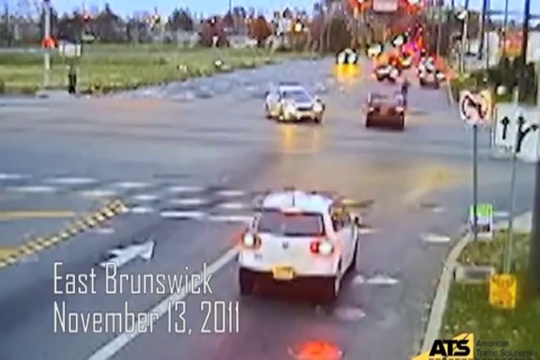car: (234, 182, 367, 297), (255, 74, 327, 126), (366, 91, 408, 127), (369, 62, 406, 85), (419, 67, 450, 85), (333, 49, 357, 70), (365, 42, 385, 61)
